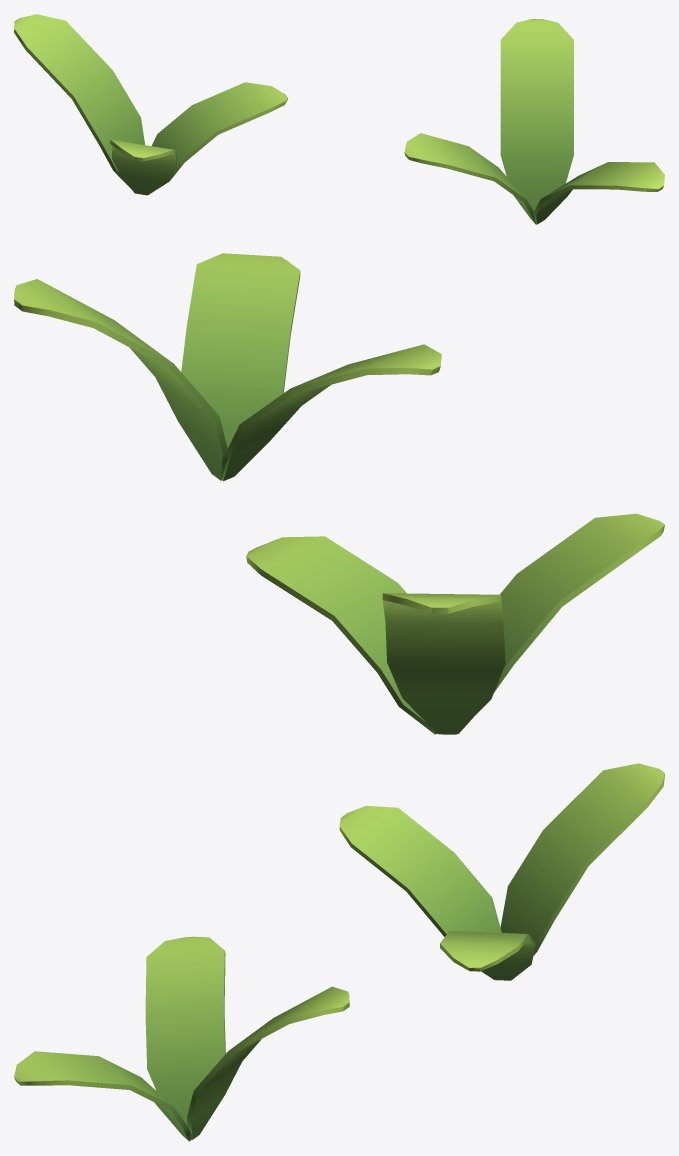
File: Grass2.fbx
The picture shows the model from 3 angles, top to bottom: view 1: azimuth 30°, elevation 25°; view 2: azimuth 150°, elevation 25°; view 3: azimuth 270°, elevation 25°; orthographic projection. The views are drawn at different scales.
Parts seen in each view (by area): view 1: Sketchfab_2022_11_16_13_08_28__7_; view 2: Sketchfab_2022_11_16_13_08_28__7_; view 3: Sketchfab_2022_11_16_13_08_28__7_.
Part boxes in pixels (left/top/right/bottom): Sketchfab_2022_11_16_13_08_28__7_: left=14, top=14, right=664, bottom=224; Sketchfab_2022_11_16_13_08_28__7_: left=14, top=253, right=664, bottom=734; Sketchfab_2022_11_16_13_08_28__7_: left=14, top=763, right=664, bottom=1141.
Size of the model in its own units: 138 by 44.25 by 151.
